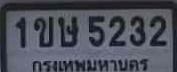1: (15, 16, 25, 47)
2: (149, 15, 165, 45), (108, 15, 124, 45)
3: (129, 15, 145, 45)
5: (88, 15, 104, 46)
A02: (33, 16, 52, 46)
A39: (57, 15, 77, 46)
BKK: (30, 57, 151, 72)
